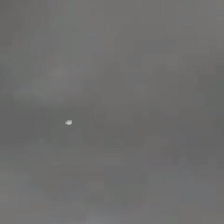Target: (65, 120, 72, 125)
